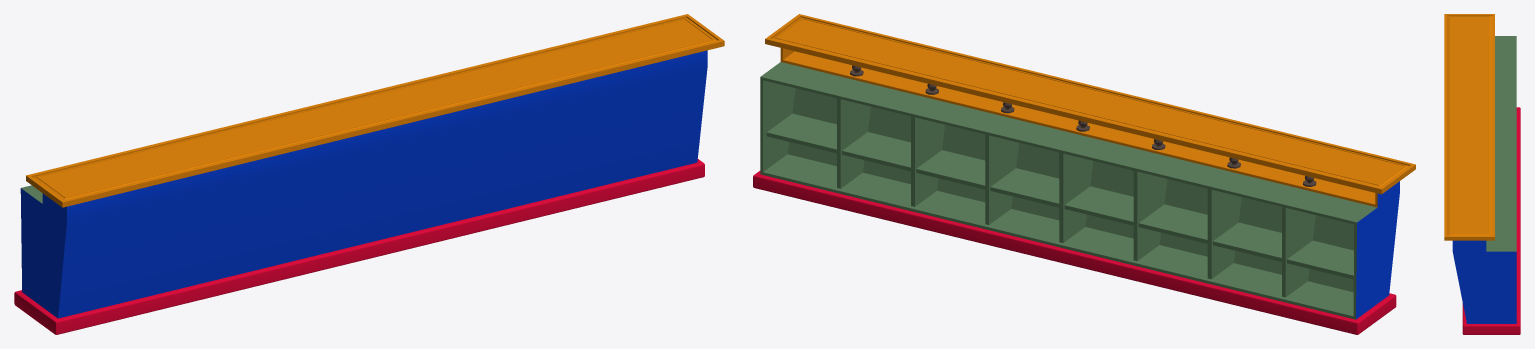
The model's file is Bancone.fbx.
3 views of the same model, side by side, from view 1: azimuth 30°, elevation 25°; view 2: azimuth 150°, elevation 25°; view 3: azimuth 270°, elevation 25° (orthographic). The views are drawn at different scales.
Visible parts, largest first — view 1: Bancone; view 2: Bancone; view 3: Bancone.
Part boxes in pixels (x1,y1,x2,y2): Bancone: [14, 14, 724, 334]; Bancone: [753, 14, 1415, 334]; Bancone: [1444, 14, 1520, 334].
Size of the model in its own units: 4.96 by 1.04 by 0.72.
